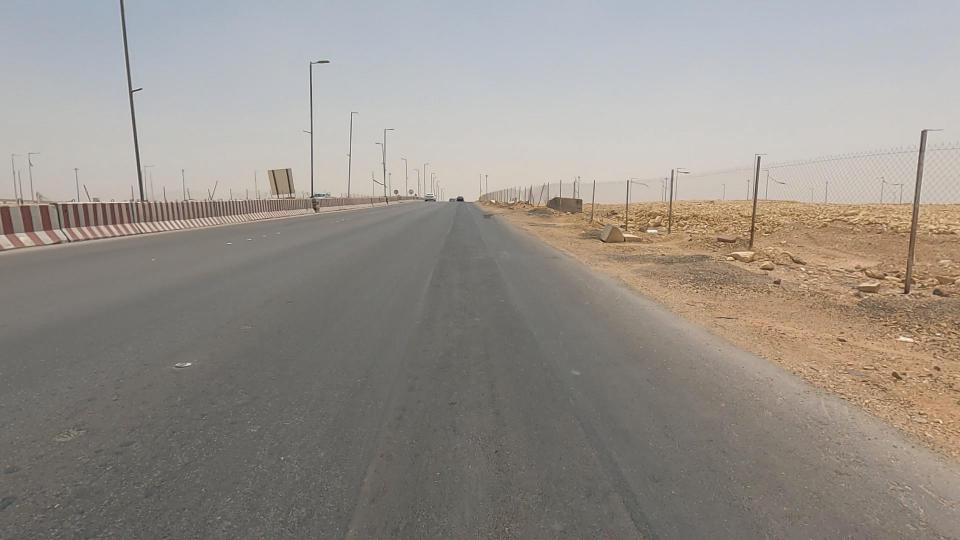GARBAGE: (622, 199, 685, 257)
